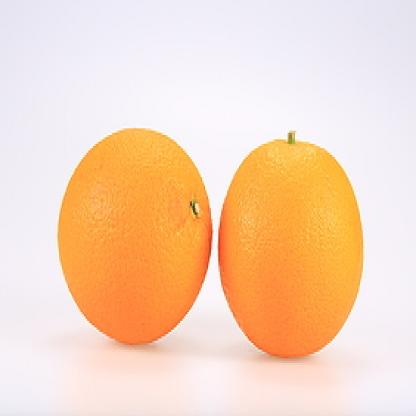orange: (62, 124, 209, 352), (217, 135, 366, 356)
